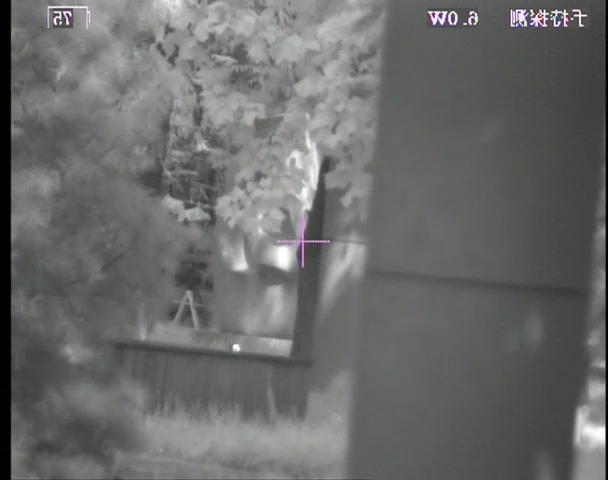my: (231, 342, 240, 352)
